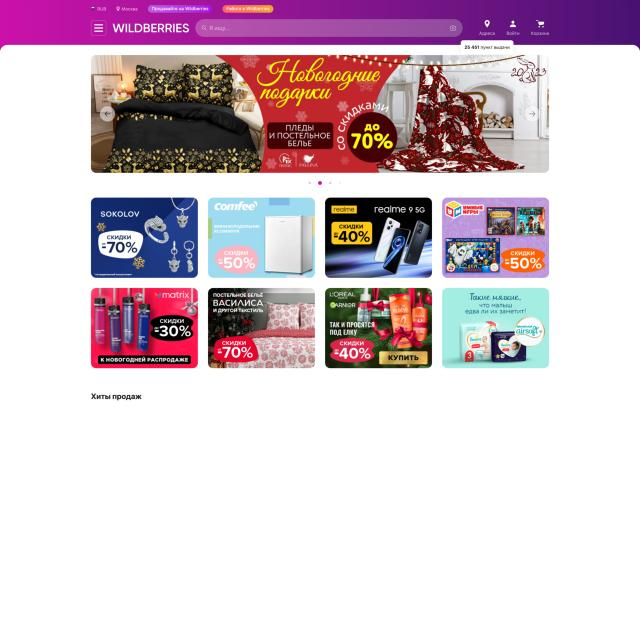input: (195, 19, 463, 37)
logo: (113, 23, 191, 35)
navigation: (91, 20, 107, 36)
